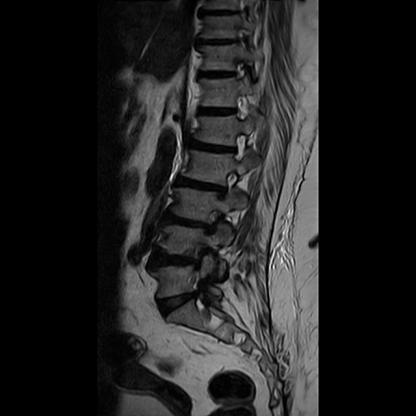Disc Bulgerotation: (145, 242, 217, 278), (154, 209, 222, 237), (153, 289, 207, 321), (171, 171, 234, 196)
